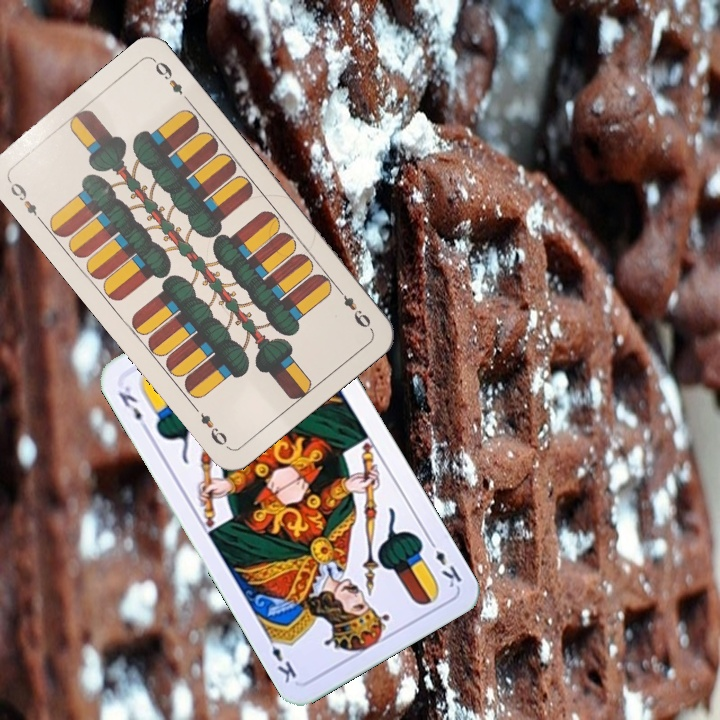E9: (332, 282, 374, 332), (4, 175, 46, 225)
EK: (424, 534, 465, 591), (114, 381, 152, 434)
